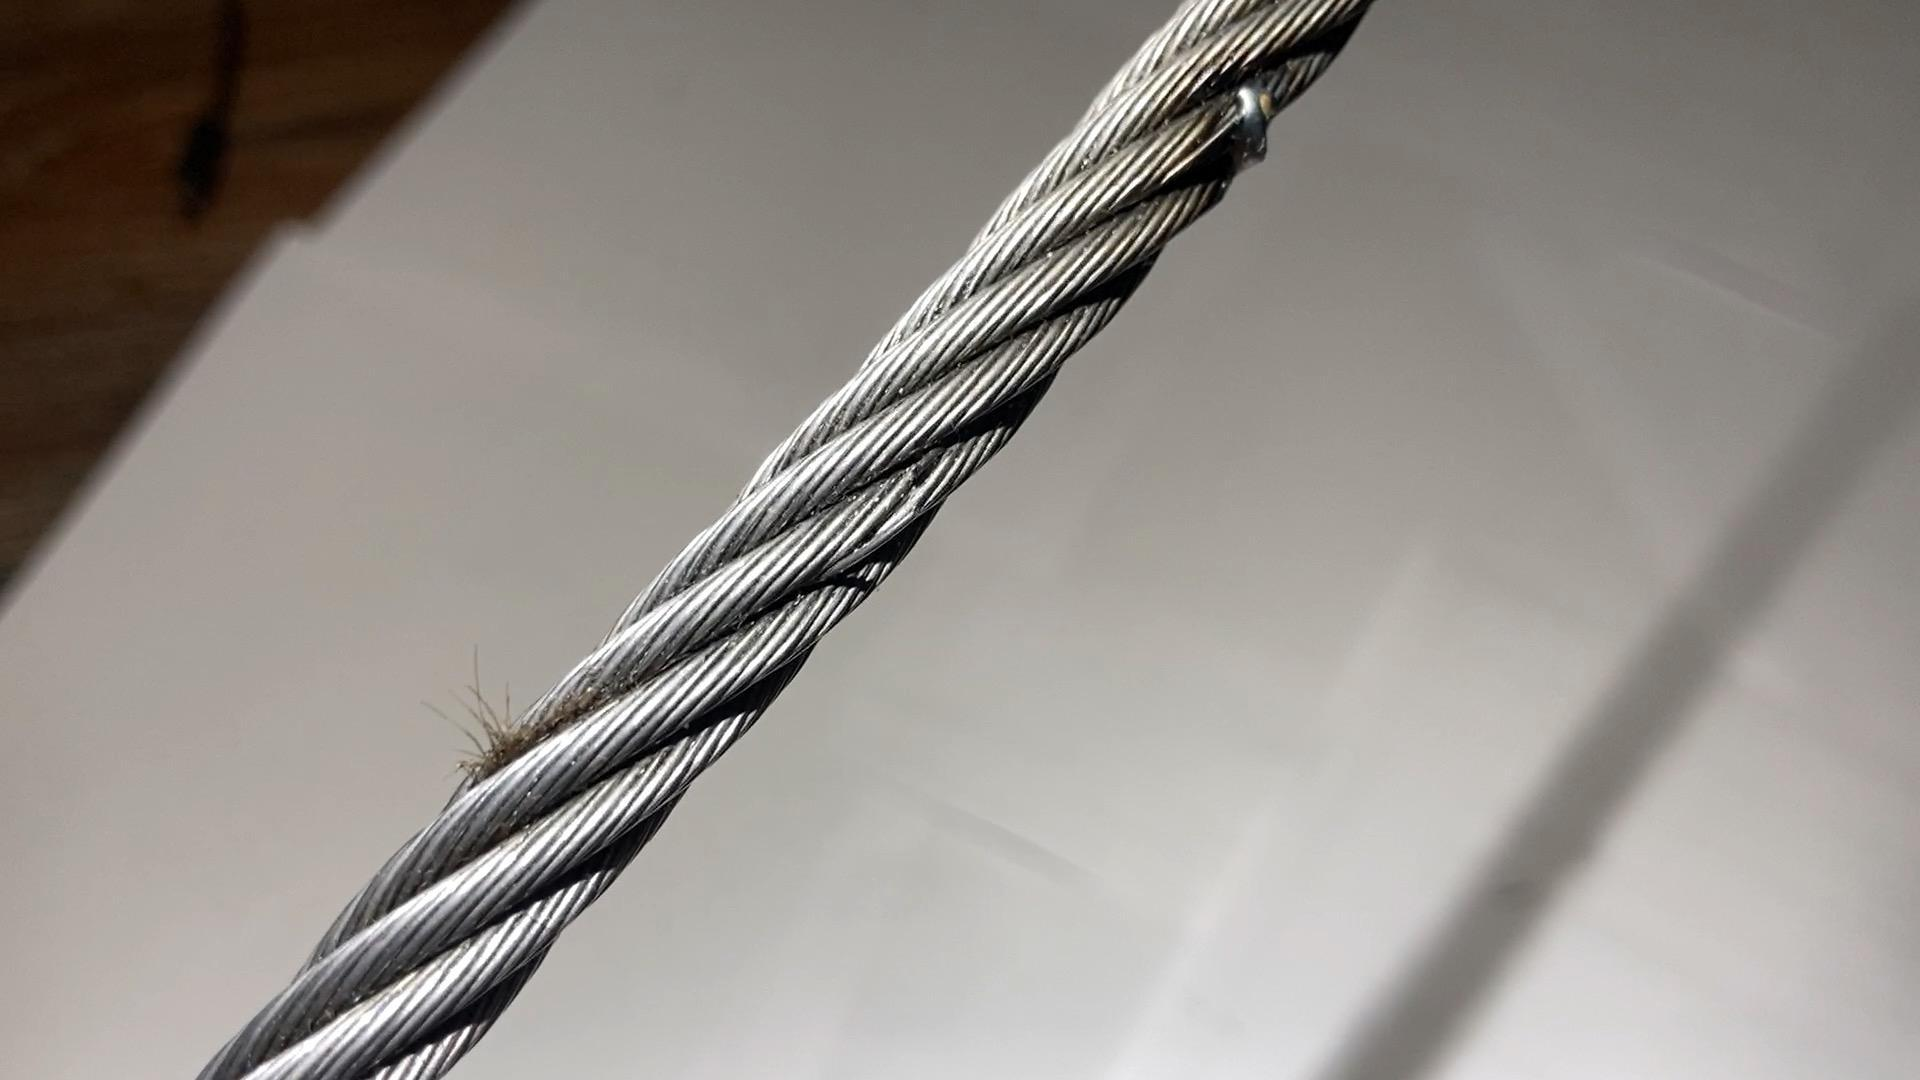break: (828, 473, 944, 553)
thunderbolt: (1205, 73, 1287, 160)
